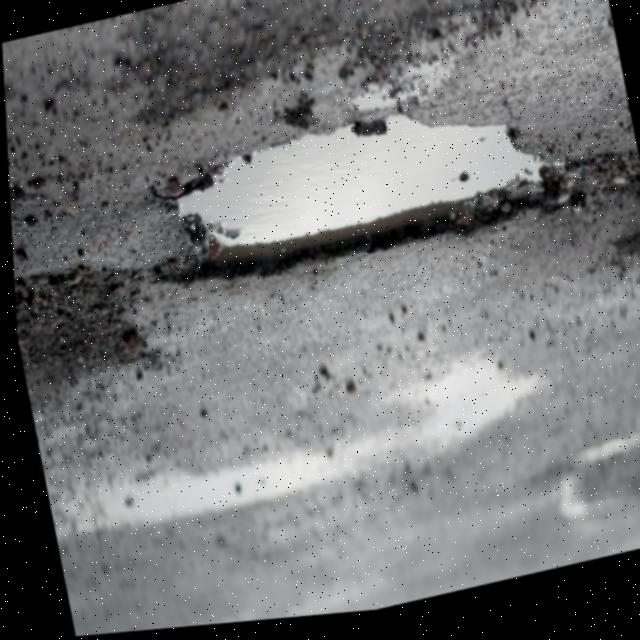Pothole: (102, 0, 624, 433)
